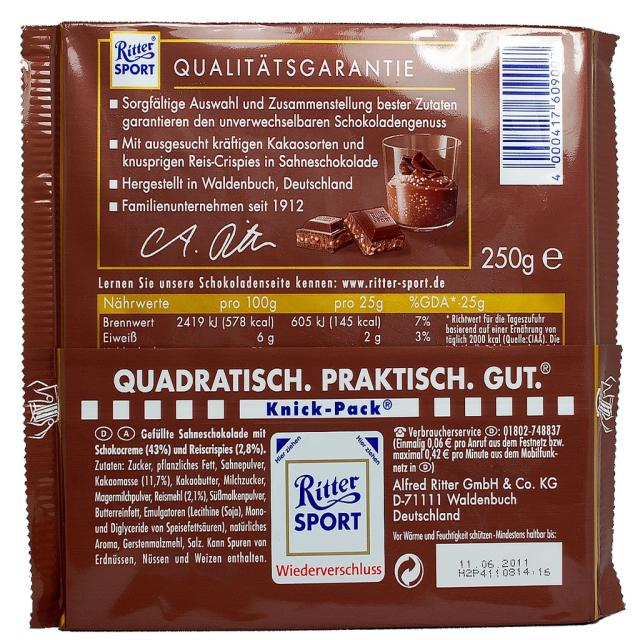rittersport: (285, 460, 371, 558), (111, 31, 162, 92)
